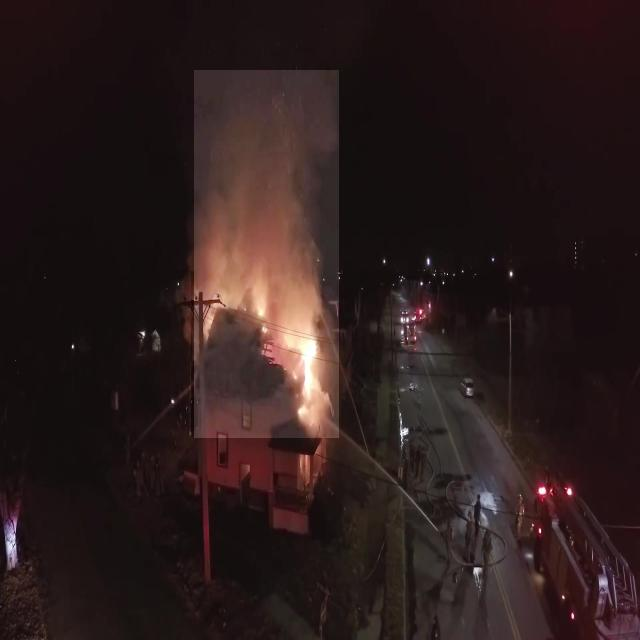Fire: (192, 272, 328, 438)
Smoke: (194, 70, 339, 438)
